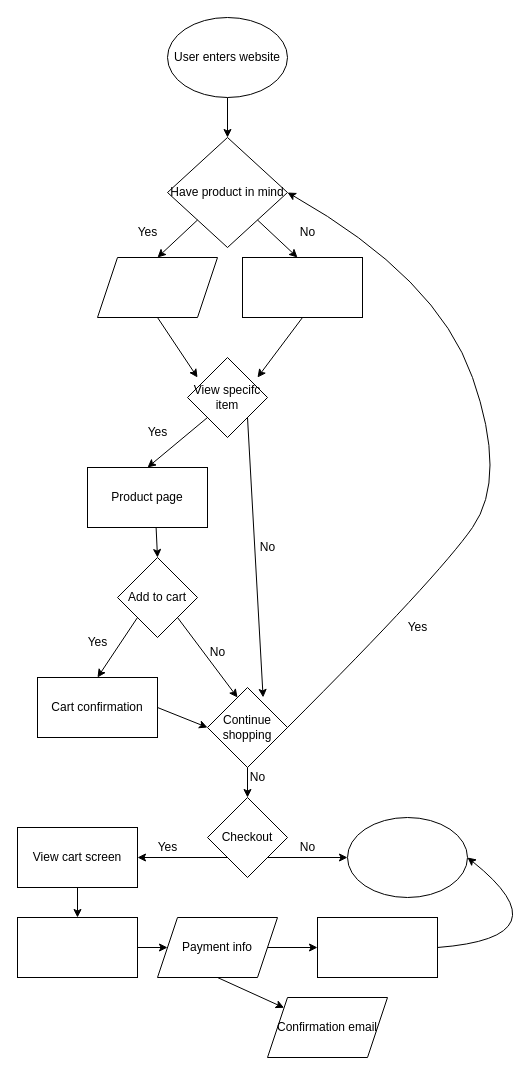
Image size: 531x1075. Some labels were removed from this diagram. The shapes that lost their labels are listed below. From the top down, each one's centre as x and y in pixels, then its label:
the point at 157,287: Use searchbar
the point at 302,287: Browses home page
the point at 407,857: User leaves website
the point at 77,947: View payment screen
the point at 377,947: Order confirmation screen
